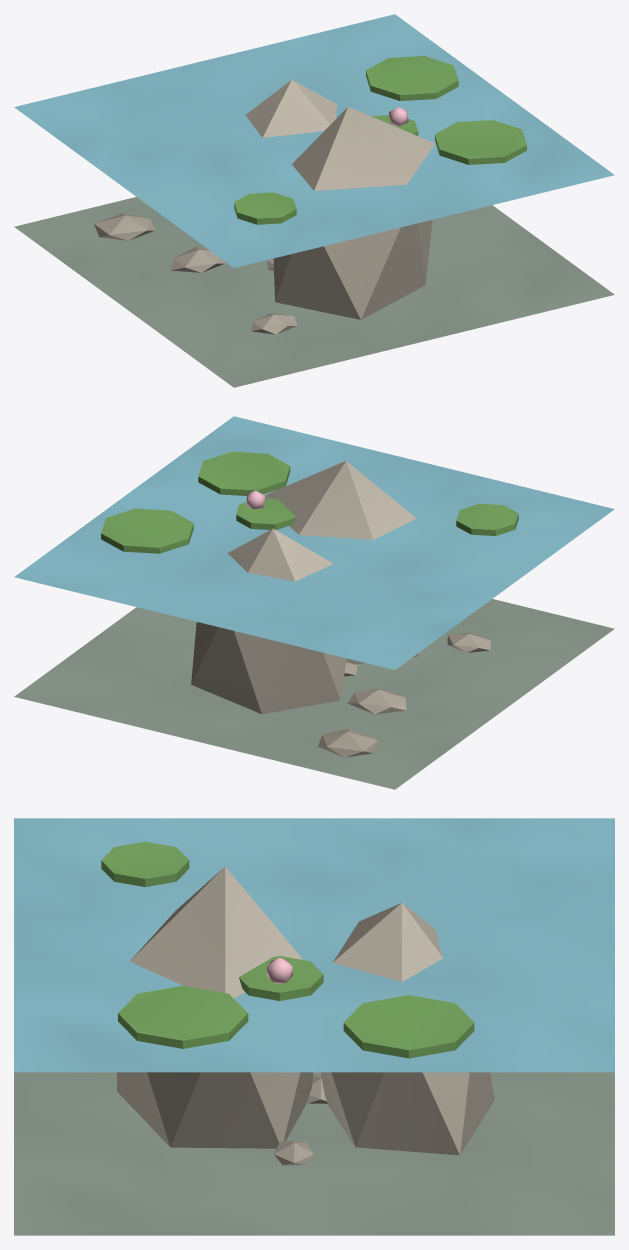
Rendered from bank.water.glb.
3 renders of one model, top to bottom at view 1: azimuth 30°, elevation 25°; view 2: azimuth 150°, elevation 25°; view 3: azimuth 270°, elevation 25°, orthographic. The views are drawn at different scales.
Parts seen in each view (by area): view 1: bank.water.v0.water, bank.water.v0.land, bank.water.v2.land, bank.water.v1.land; view 2: bank.water.v0.water, bank.water.v0.land, bank.water.v2.land, bank.water.v1.land; view 3: bank.water.v0.water, bank.water.v0.land, bank.water.v2.land, bank.water.v1.land.
Boxes of the visible parts, left/top/right/bottom form: bank.water.v0.water: left=14, top=14, right=614, bottom=267; bank.water.v0.land: left=14, top=197, right=614, bottom=387; bank.water.v2.land: left=245, top=80, right=435, bottom=319; bank.water.v1.land: left=234, top=56, right=526, bottom=224; bank.water.v0.water: left=14, top=416, right=614, bottom=669; bank.water.v0.land: left=14, top=599, right=614, bottom=789; bank.water.v2.land: left=191, top=461, right=419, bottom=714; bank.water.v1.land: left=101, top=451, right=518, bottom=553; bank.water.v0.water: left=14, top=818, right=614, bottom=1072; bank.water.v0.land: left=14, top=1072, right=614, bottom=1235; bank.water.v2.land: left=117, top=866, right=494, bottom=1155; bank.water.v1.land: left=101, top=841, right=474, bottom=1058.
Size of the model in its own units: 1 by 0.4461 by 1.
